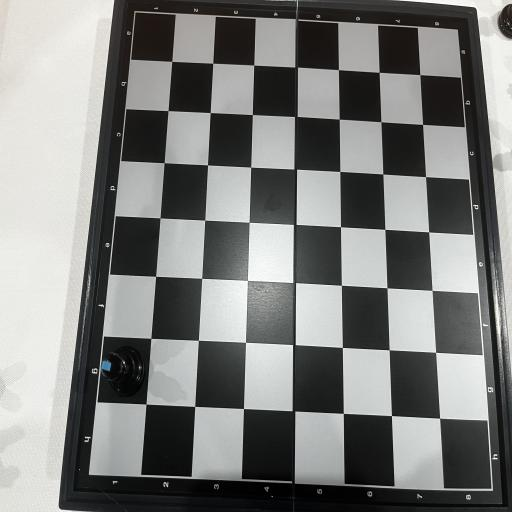Black bishop: (102, 345, 146, 397)
